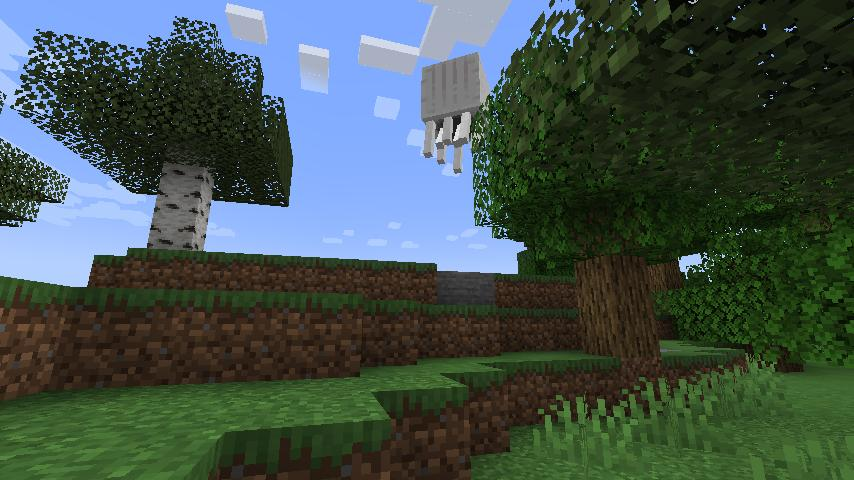ghast: (420, 51, 496, 176)
